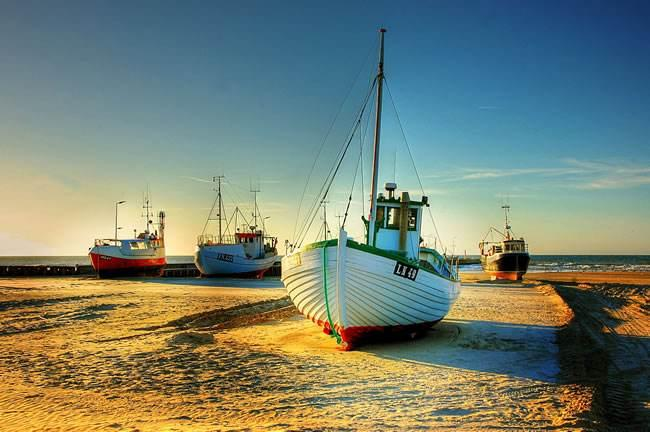otherboat: (269, 184, 469, 338), (87, 205, 174, 281), (196, 222, 282, 274), (479, 224, 534, 277)
